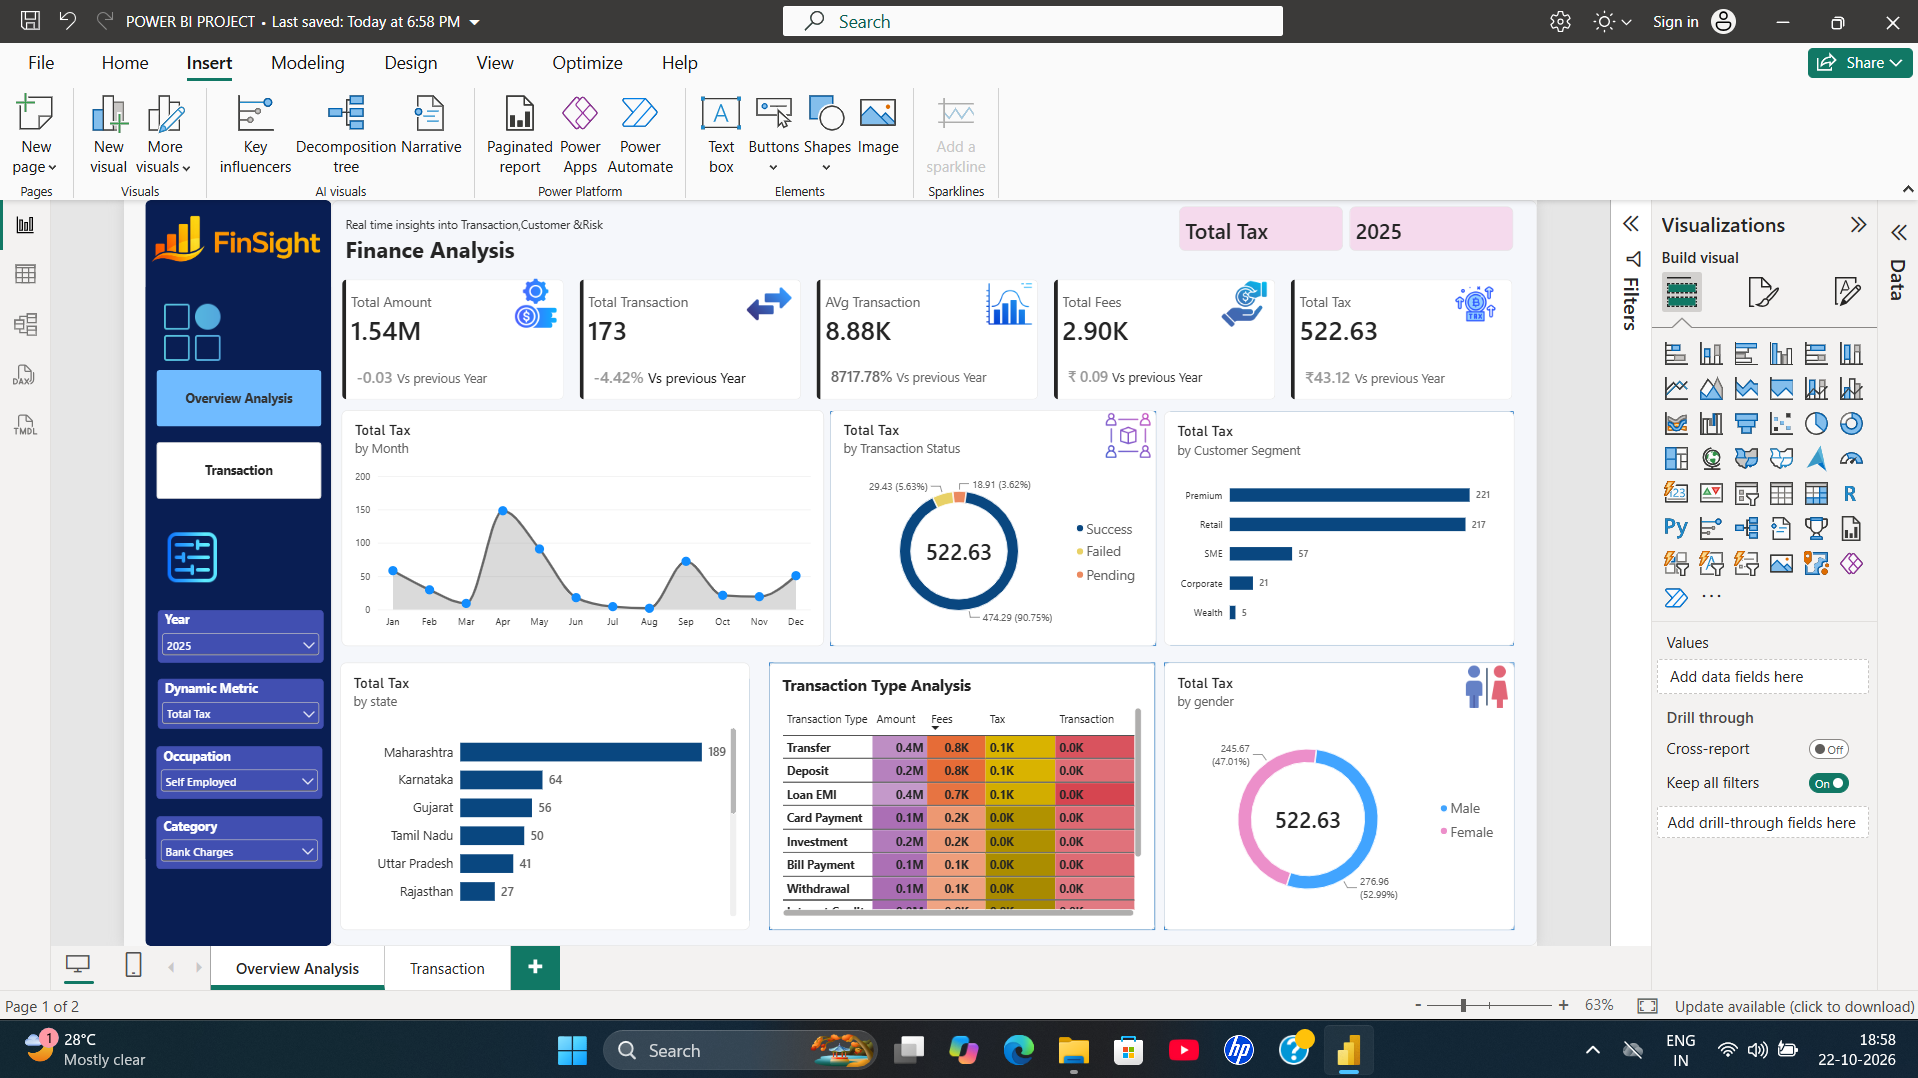

The page's visual inventory and layout, read from the dashboard file:
{"tool":"powerbi","page":{"name":"Overview Analysis","canvas":[1800,950],"ordinal":0},"visuals":[{"type":"shape","box":[27.8,0,237.1,950],"z":0},{"type":"shape","box":[264.9,0,1535.4,950],"z":1000},{"type":"image","box":[27.8,0,237.1,99.7],"z":2000},{"type":"cardVisual","fields":{"Data":["finance_transactions.Dahboard Tittle"]},"box":[276.3,8.2,340.1,86.7],"z":3000},{"type":"cardVisual","fields":{"Data":["finance_transactions.Total Amount","finance_transactions.Total Transaction","finance_transactions.AVg Transaction","finance_transactions.Total Fees","finance_transactions.Total Tax"]},"box":[276.9,99.6,1492.7,155.3],"z":4000},{"type":"slicer","fields":{"Values":["Calender Table.Year"]},"box":[42.2,521.8,211.1,67.5],"z":5000},{"type":"image","box":[486.3,99.6,77.7,62.5],"z":6000},{"type":"image","box":[785.2,101.3,74.3,60.8],"z":7000},{"type":"image","box":[1389.7,101.3,74.3,60.8],"z":8000},{"type":"image","box":[1090.8,101.3,74.3,60.8],"z":9000},{"type":"image","box":[1673.4,101.3,96.2,60.8],"z":10000},{"type":"slicer","fields":{"Values":["Dynamic Metric.Dynamic Metric"]},"box":[42.2,609.6,211.1,64.2],"z":11000},{"type":"shape","box":[276.9,266.8,615,300],"z":12000},{"type":"areaChart","fields":{"Category":["Calender Table.Month"],"Y":["finance_transactions.Total Amount"]},"box":[276.9,266.8,614.6,300.6],"z":13000},{"type":"cardVisual","fields":{"Data":["finance_transactions.Selected Dynamic Measure","finance_transactions.Selected Year"]},"box":[1343.1,8.4,426.9,57.4],"z":14000},{"type":"shape","box":[899.3,268.7,415,299],"z":15000},{"type":"donutChart","fields":{"Category":["finance_transactions.transaction_status"],"Y":["finance_transactions.Total Amount"]},"box":[899.3,267,415.3,300.9],"z":16000},{"type":"shape","box":[1333.1,268.7,437.4,298.6],"z":17000},{"type":"barChart","fields":{"Category":["customers.customer_segment"],"Y":["finance_transactions.Total Amount"]},"box":[1324.4,268.7,446.1,298.6],"z":18000},{"type":"shape","box":[277.5,609.5,520,308],"z":19000},{"type":"barChart","fields":{"Category":["customers.state"],"Y":["finance_transactions.Total Amount"]},"box":[275.8,588.4,521.7,340.8],"z":20000},{"type":"shape","box":[822,588.4,491.8,340.8],"z":21000},{"type":"tableEx","title":"Transaction Type Analysis","fields":{"Values":["finance_transactions.transaction_type","finance_transactions.Total Amount","finance_transactions.Total Fees","finance_transactions.Total Tax","finance_transactions.Total Transaction"]},"box":[822,588.4,491.8,340.8],"z":22000},{"type":"shape","box":[1324.4,588.4,446.1,340.8],"z":23000},{"type":"donutChart","fields":{"Category":["customers.gender"],"Y":["finance_transactions.Total Amount"]},"box":[1324.4,588.4,446.1,340.8],"z":24000},{"type":"image","box":[1245.3,268.7,68.5,61.5],"z":25000},{"type":"image","box":[1702,588.4,68.5,61.5],"z":26000},{"type":"slicer","fields":{"Values":["customers.occupation"]},"box":[42.2,695.2,211.1,67.5],"z":26001},{"type":"slicer","fields":{"Values":["finance_transactions.merchant_category"]},"box":[42.2,784.6,211.1,67.5],"z":26002},{"type":"pageNavigator","box":[42.2,216,210.9,165.4],"z":26003},{"type":"image","box":[42.2,131.6,91.1,72.6],"z":26004},{"type":"image","box":[42.2,418.4,91.1,72.6],"z":26005}]}

Visuals, with their boxes on the page's 1800x950 design canvas (x1, y1, x2, y2). These are canvas units, not pixel positions in the 1918x1078 screenshot, which may show the page scaled, cropped or inside an application window:
shape: bbox=(28, 0, 265, 950)
shape: bbox=(265, 0, 1800, 950)
image: bbox=(28, 0, 265, 100)
cardVisual - finance_transactions.Dahboard Tittle: bbox=(276, 8, 616, 95)
cardVisual - finance_transactions.Total Amount x finance_transactions.Total Transaction: bbox=(277, 100, 1770, 255)
slicer - Calender Table.Year: bbox=(42, 522, 253, 589)
image: bbox=(486, 100, 564, 162)
image: bbox=(785, 101, 860, 162)
image: bbox=(1390, 101, 1464, 162)
image: bbox=(1091, 101, 1165, 162)
image: bbox=(1673, 101, 1770, 162)
slicer - Dynamic Metric.Dynamic Metric: bbox=(42, 610, 253, 674)
shape: bbox=(277, 267, 892, 567)
areaChart - Calender Table.Month x finance_transactions.Total Amount: bbox=(277, 267, 892, 567)
cardVisual - finance_transactions.Selected Dynamic Measure x finance_transactions.Selected Year: bbox=(1343, 8, 1770, 66)
shape: bbox=(899, 269, 1314, 568)
donutChart - finance_transactions.transaction_status x finance_transactions.Total Amount: bbox=(899, 267, 1315, 568)
shape: bbox=(1333, 269, 1770, 567)
barChart - customers.customer_segment x finance_transactions.Total Amount: bbox=(1324, 269, 1770, 567)
shape: bbox=(278, 610, 798, 918)
barChart - customers.state x finance_transactions.Total Amount: bbox=(276, 588, 798, 929)
shape: bbox=(822, 588, 1314, 929)
"Transaction Type Analysis" tableEx: bbox=(822, 588, 1314, 929)
shape: bbox=(1324, 588, 1770, 929)
donutChart - customers.gender x finance_transactions.Total Amount: bbox=(1324, 588, 1770, 929)
image: bbox=(1245, 269, 1314, 330)
image: bbox=(1702, 588, 1770, 650)
slicer - customers.occupation: bbox=(42, 695, 253, 763)
slicer - finance_transactions.merchant_category: bbox=(42, 785, 253, 852)
pageNavigator: bbox=(42, 216, 253, 381)
image: bbox=(42, 132, 133, 204)
image: bbox=(42, 418, 133, 491)
